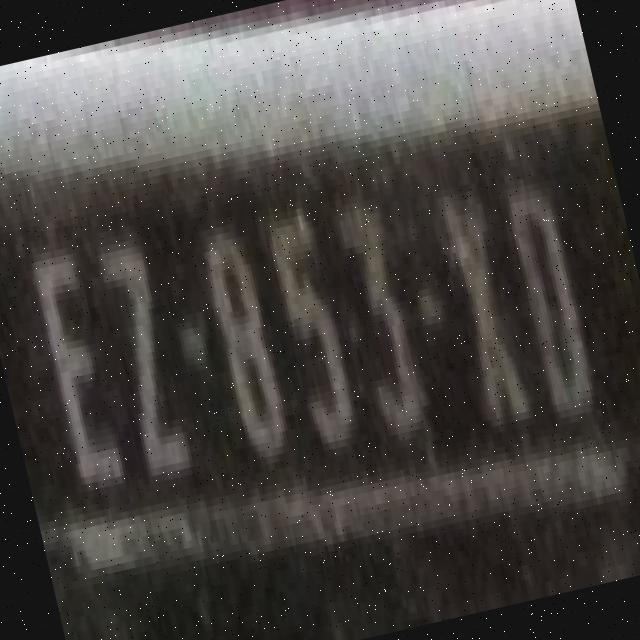Autre: (0, 119, 640, 526)
